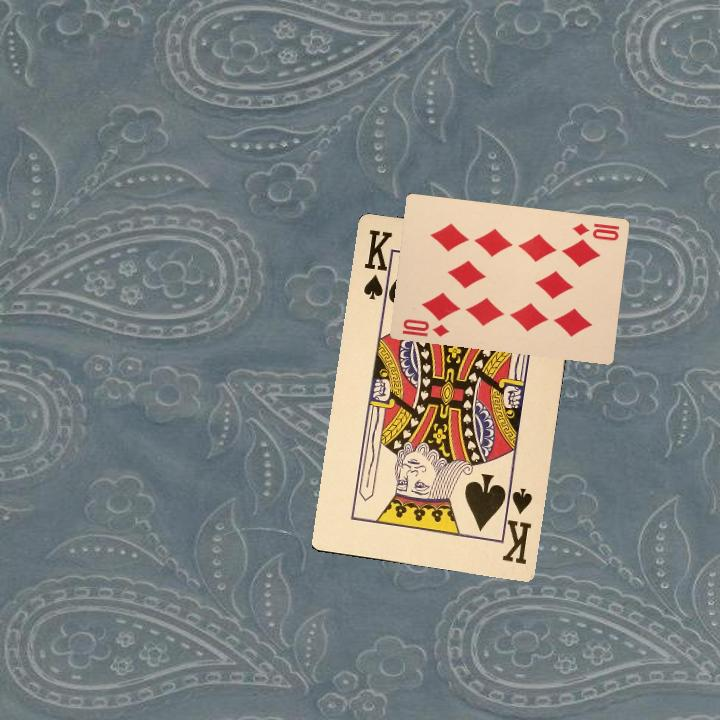10d: (398, 315, 452, 339), (569, 219, 622, 243)
Ks: (495, 484, 535, 567), (359, 225, 397, 306)
